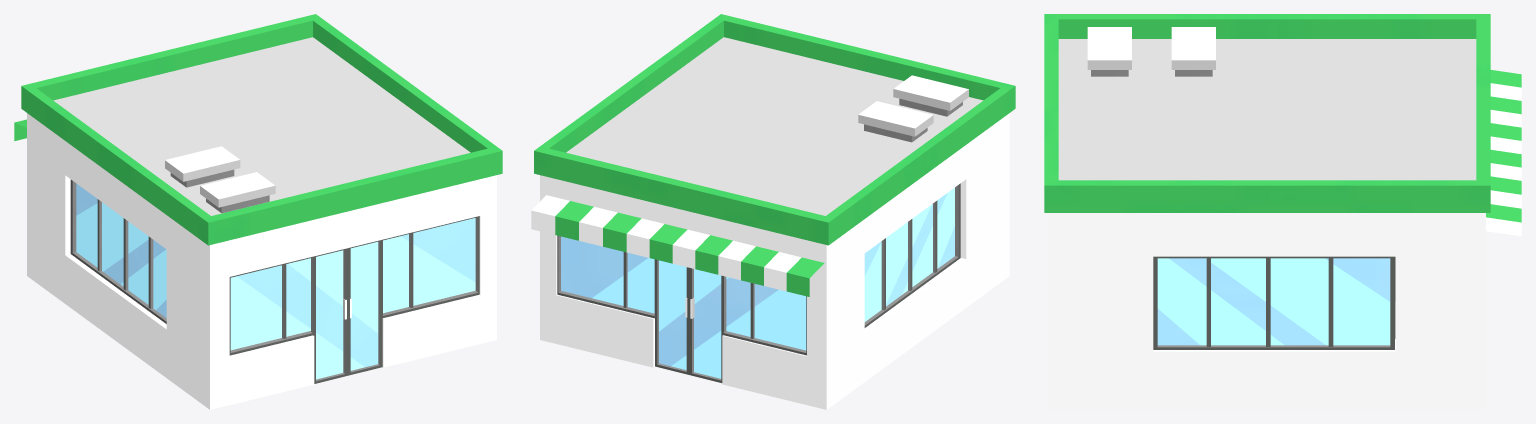
The model's file is snack.008.glb.
3 views of the same model, side by side, from view 1: azimuth 30°, elevation 25°; view 2: azimuth 150°, elevation 25°; view 3: azimuth 270°, elevation 25° (orthographic). The views are drawn at different scales.
Visible parts, largest first — view 1: snack.008(Clone); view 2: snack.008(Clone); view 3: snack.008(Clone).
Boxes of the visible parts, box(x1,y1,x2,y2) form: snack.008(Clone): box(14, 14, 502, 409); snack.008(Clone): box(531, 14, 1015, 409); snack.008(Clone): box(1044, 14, 1521, 409).
Bounding box in the file's own units: 5.2 × 3.25 × 6.11.
1 material, 1 textured.
